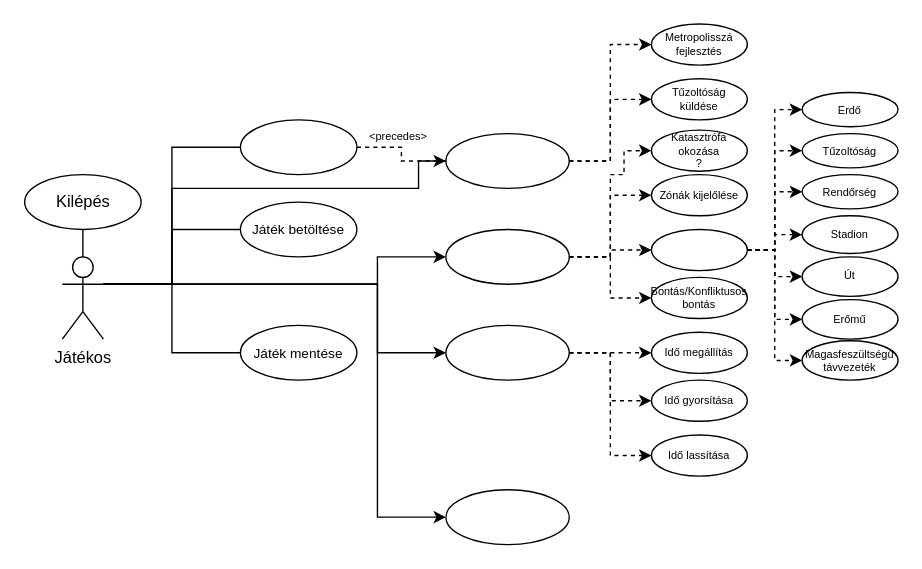
This 922x569 diagram has some shape labels left out. The shapes that lost their labels are listed below. From the top down, each one's box as (x1, y1, x2, y2) in pixels, then its label:
(239, 119, 357, 175): Új játék
(445, 132, 569, 188): Mező kijelőlése
(445, 228, 569, 284): Eszköz használata
(650, 228, 747, 271): Építkezés
(445, 324, 569, 380): Idő manipulálása
(445, 488, 569, 545): Költségvetés menedzselése
